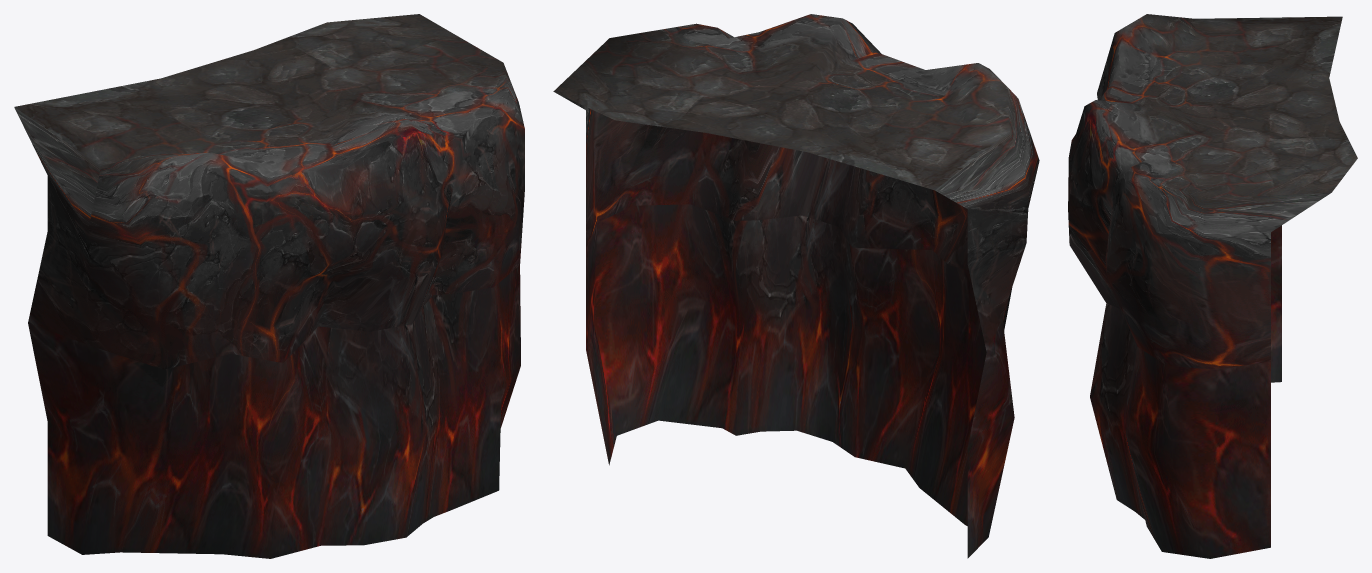
File: 10504_LavaStone05.FBX
The picture shows the model from 3 angles, left to right: view 1: azimuth 30°, elevation 25°; view 2: azimuth 150°, elevation 25°; view 3: azimuth 270°, elevation 25°; orthographic projection. The views are drawn at different scales.
Parts seen in each view (by area): view 1: Line010; view 2: Line010; view 3: Line010.
Part boxes in pixels (x1=…): Line010: x1=14, y1=14, x2=524, y2=558; Line010: x1=553, y1=14, x2=1039, y2=558; Line010: x1=1068, y1=14, x2=1357, y2=558.
Size of the model in its own units: 1280 by 1179 by 794.
